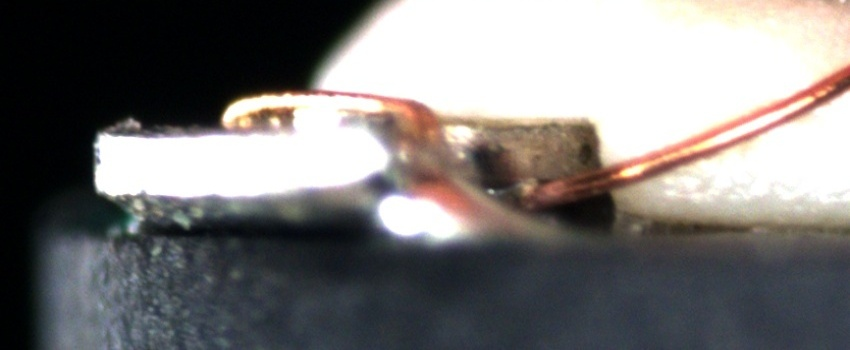TE: (208, 89, 450, 132)
